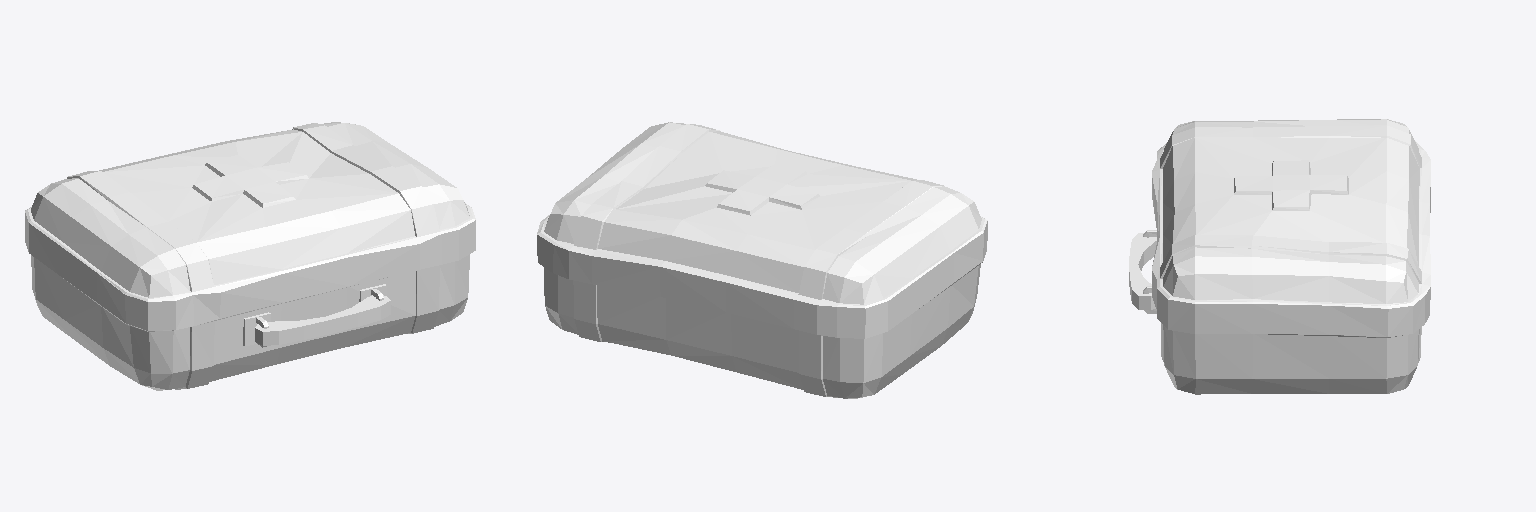
The model's file is medkit2.obj.
The picture shows the model from 3 angles: view 1: azimuth 30°, elevation 25°; view 2: azimuth 150°, elevation 25°; view 3: azimuth 270°, elevation 25°; orthographic projection.
Parts seen in each view (by area): view 1: loUV:polySurface1_medKit_01_group_cryExportNode_medKit_01_polyS, polySurface4_loUV:polySurface1_medKit_01_group_cryExportNode_me; view 2: loUV:polySurface1_medKit_01_group_cryExportNode_medKit_01_polyS; view 3: loUV:polySurface1_medKit_01_group_cryExportNode_medKit_01_polyS, polySurface4_loUV:polySurface1_medKit_01_group_cryExportNode_me.
Boxes of the visible parts, x1=… form: loUV:polySurface1_medKit_01_group_cryExportNode_medKit_01_polyS: x1=25, y1=122, x2=475, y2=390; polySurface4_loUV:polySurface1_medKit_01_group_cryExportNode_me: x1=255, y1=295, x2=390, y2=345; loUV:polySurface1_medKit_01_group_cryExportNode_medKit_01_polyS: x1=537, y1=122, x2=987, y2=398; loUV:polySurface1_medKit_01_group_cryExportNode_medKit_01_polyS: x1=1152, y1=119, x2=1430, y2=394; polySurface4_loUV:polySurface1_medKit_01_group_cryExportNode_me: x1=1129, y1=233, x2=1156, y2=310.
Size of the model in its own units: 42.09 by 17.07 by 31.69.